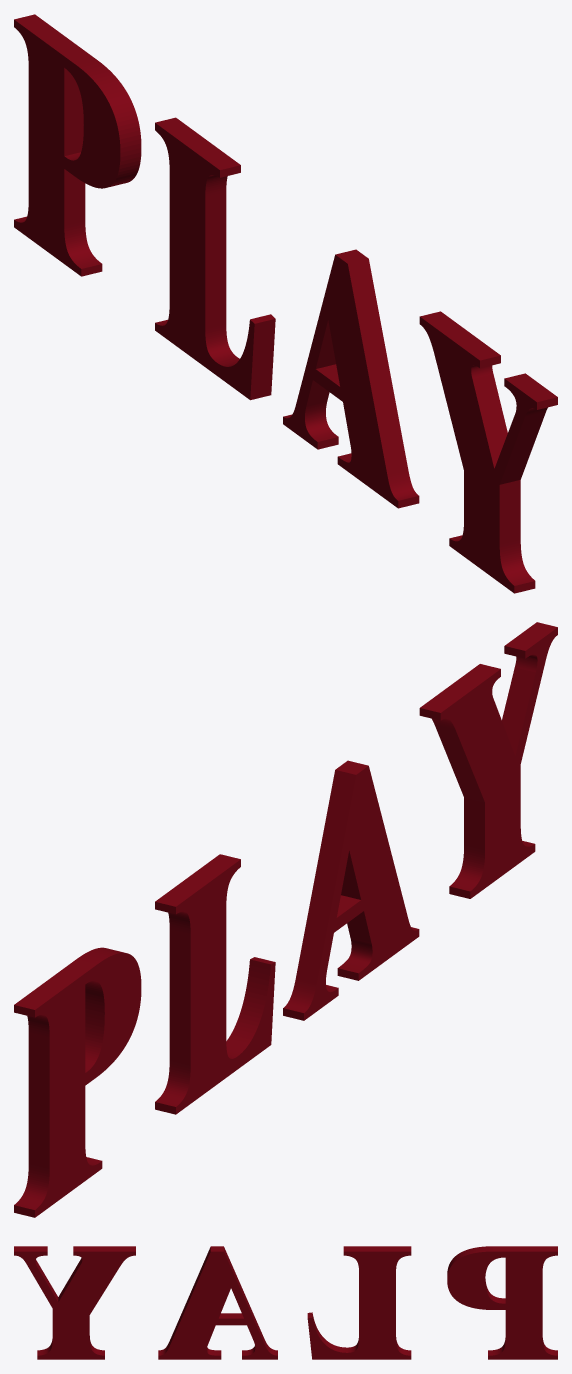
The model's file is Title_text_play.fbx.
3 views of the same model, one above another, from view 1: azimuth 30°, elevation 25°; view 2: azimuth 150°, elevation 25°; view 3: azimuth 270°, elevation 25° (orthographic). The views are drawn at different scales.
Visible parts, largest first — view 1: テキスト; view 2: テキスト; view 3: テキスト.
Part boxes in pixels (x1,y1,x2,y2): テキスト: (14, 14, 557, 593); テキスト: (14, 622, 557, 1217); テキスト: (14, 1246, 557, 1359).
Bounding box in the file's own units: 9 × 85.06 × 388.
